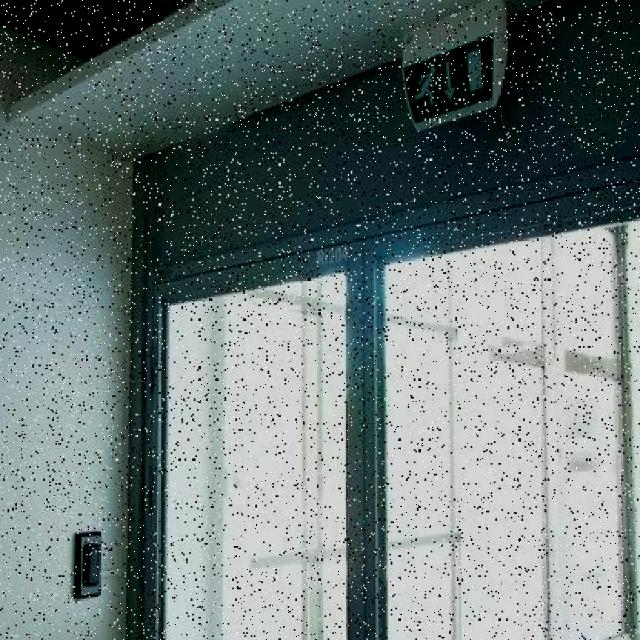emergency_exit: (399, 31, 503, 133)
